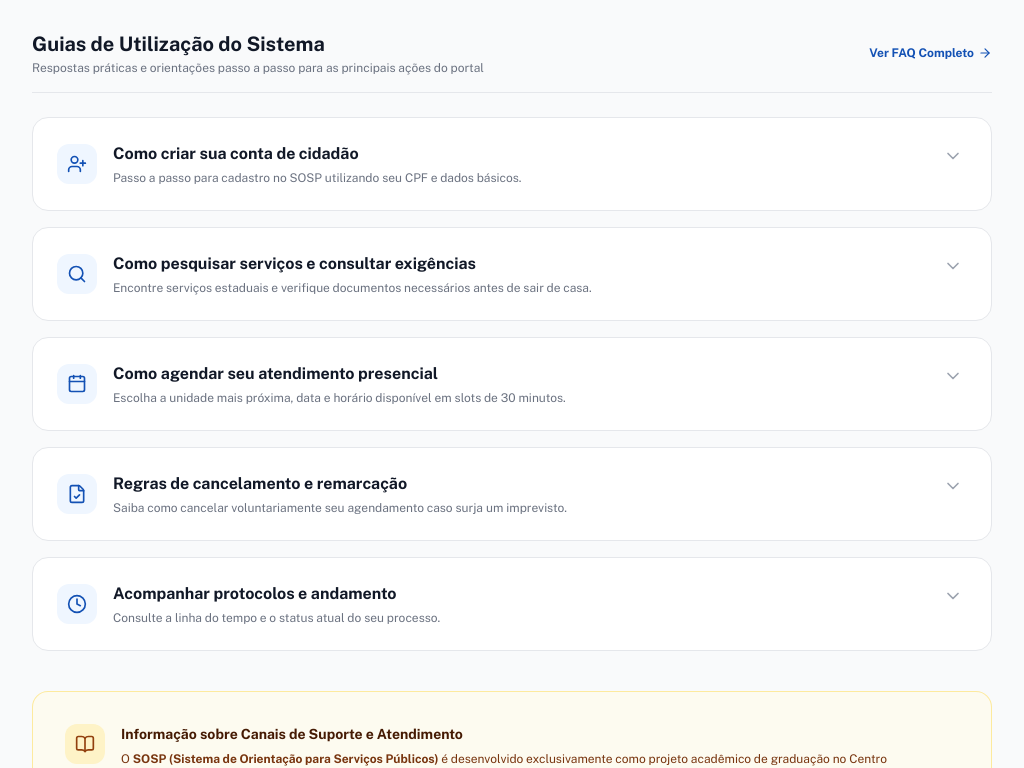
Central de Ajuda (Figma Parity, UC-14, D11) › deve abrir e fechar o passo a passo do tópico ao clicar no cabeçalho
(page scrolled)
Note: Clica para expandir
Click the button "Como agendar seu atendimento presencial" at (77, 384), box [33,338,991,430]
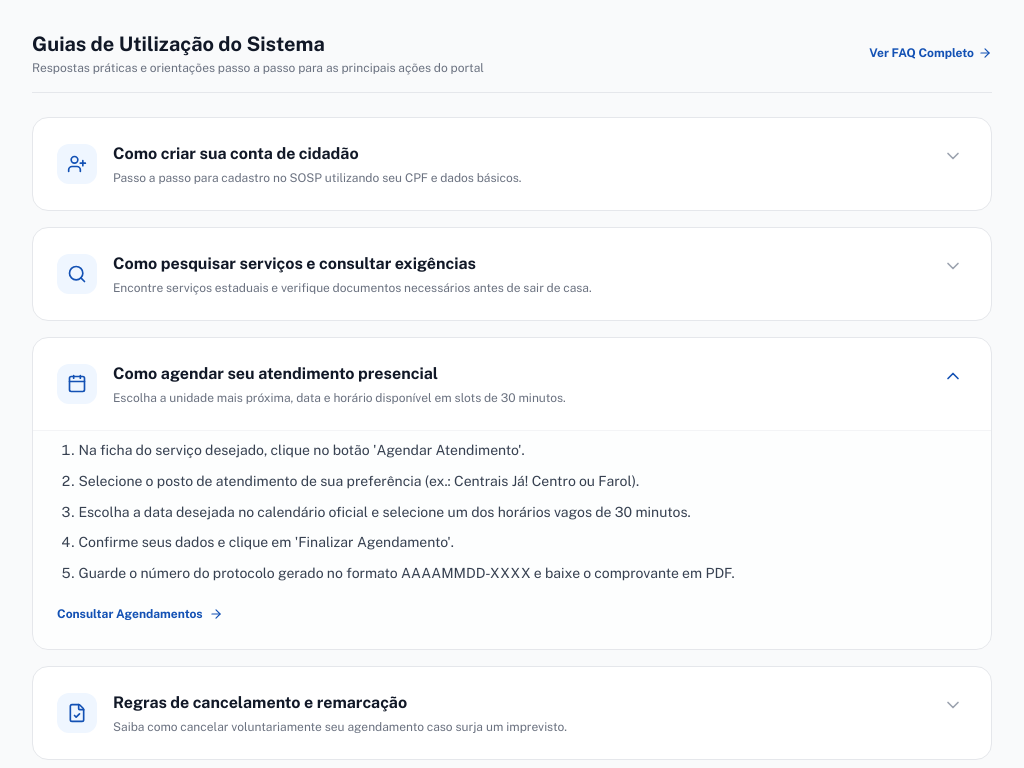
Expected: the text "Na ficha do serviço desejado, clique no botão 'Agendar Atendimento'." is shown, [78,442,525,458]
Note: Clica novamente para recolher
Click the button "Como agendar seu atendimento presencial" at (77, 384), box [33,338,991,430]
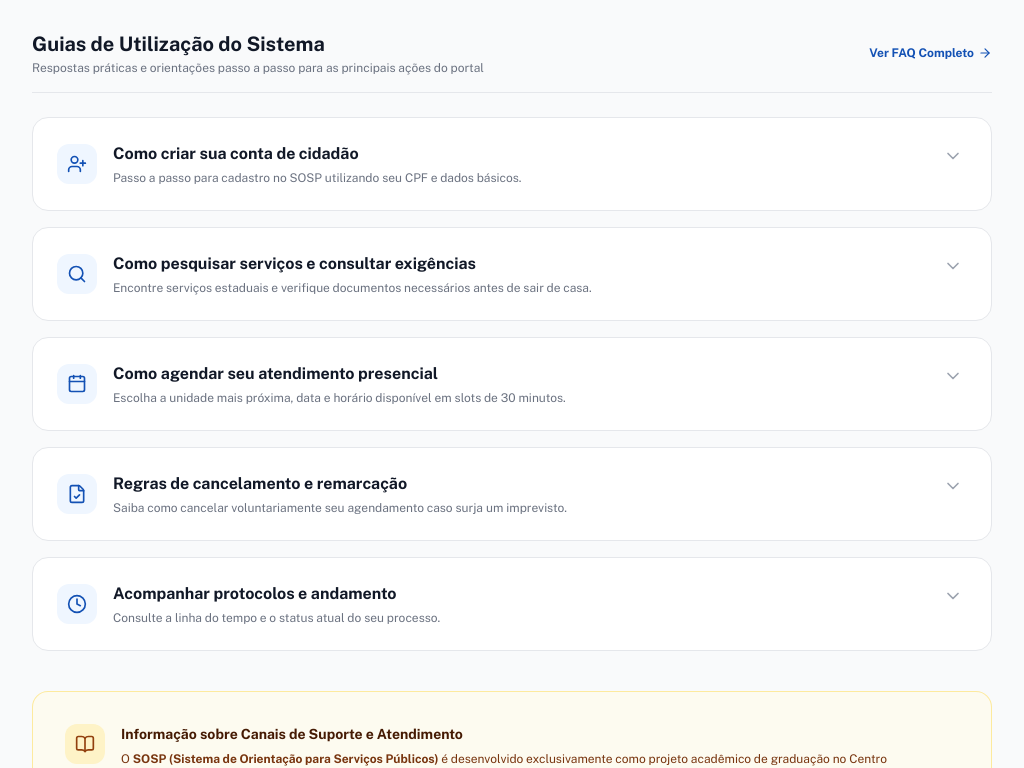
Expected: the text "Na ficha do serviço desejado, clique no botão 'Agendar Atendimento'." is gone
